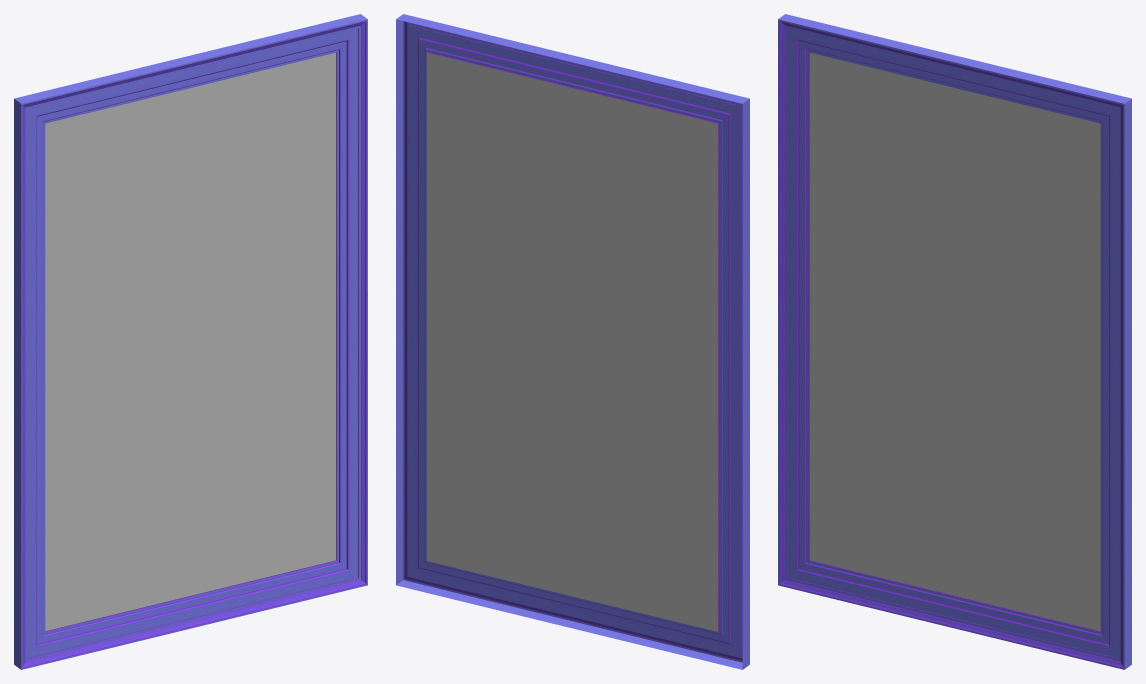
3 views of the same model, side by side, from view 1: azimuth 30°, elevation 25°; view 2: azimuth 150°, elevation 25°; view 3: azimuth 330°, elevation 25° (orthographic).
Parts seen in each view (by area): view 1: _09_12, _09_12_frame; view 2: _09_12, _09_12_frame; view 3: _09_12, _09_12_frame.
Part boxes in pixels (x1,y1,x2,y2): _09_12: (45,52,336,631); _09_12_frame: (14,14,367,669); _09_12: (426,52,718,631); _09_12_frame: (396,14,749,669); _09_12: (809,52,1100,631); _09_12_frame: (778,14,1131,669).
Size of the model in its own units: 250 by 390 by 9.07.
